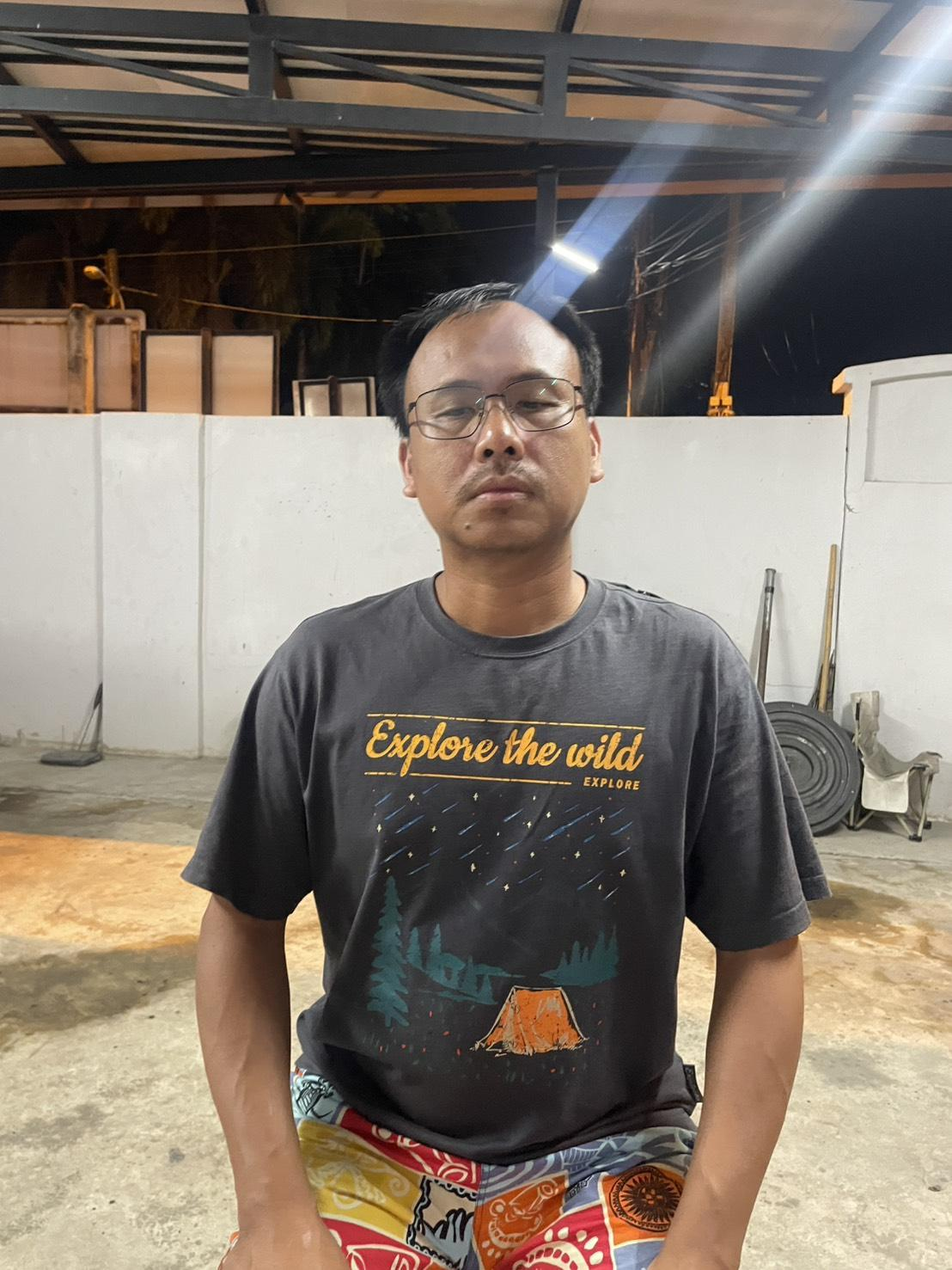GoodPosture: (183, 276, 829, 1269), (183, 285, 827, 1162)
